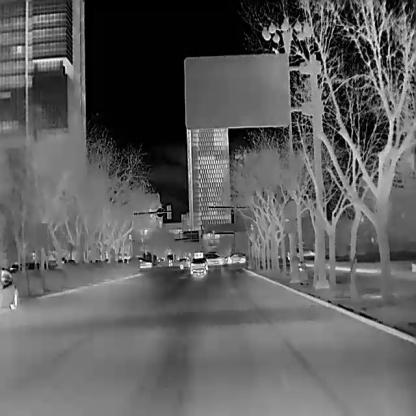bus: (192, 250, 203, 258)
car: (0, 265, 18, 308), (189, 258, 205, 276), (226, 253, 244, 263), (138, 256, 152, 268), (173, 258, 189, 268)
